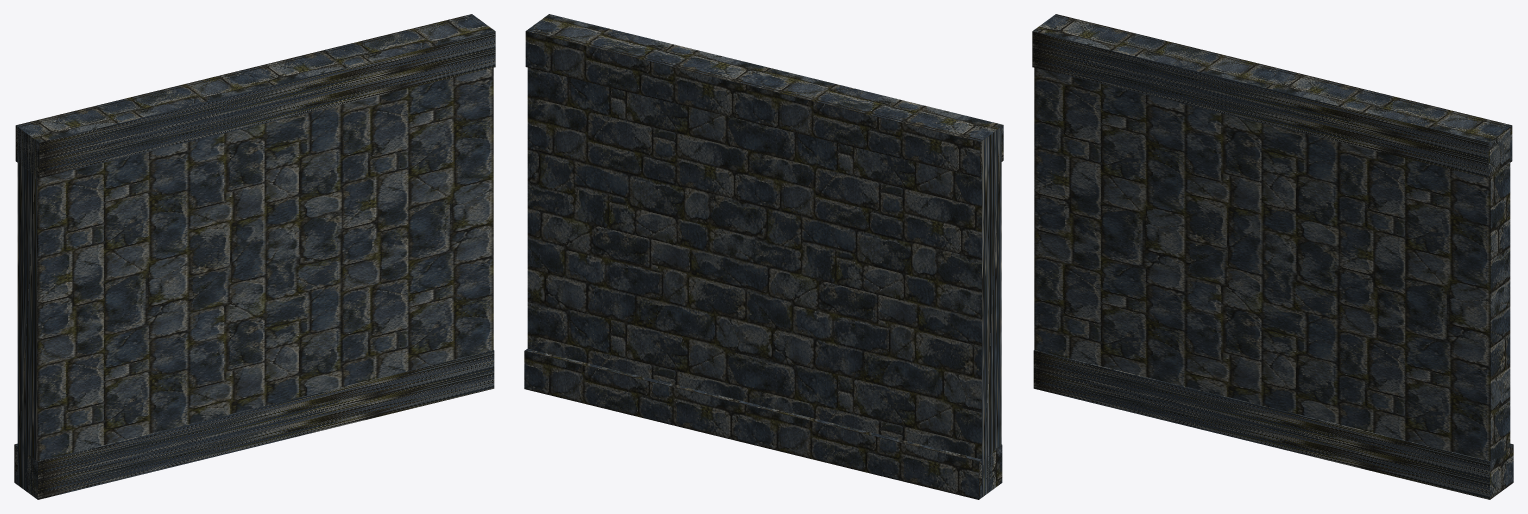
The model's file is M_Parede_4m.obj.
The picture shows the model from 3 angles, left to right: view 1: azimuth 30°, elevation 25°; view 2: azimuth 150°, elevation 25°; view 3: azimuth 330°, elevation 25°; orthographic projection.
Parts seen in each view (by area): view 1: M_Parede_4m; view 2: M_Parede_4m; view 3: M_Parede_4m.
Boxes of the visible parts, box(x1,y1,x2,y2) form: M_Parede_4m: box(14, 14, 495, 499); M_Parede_4m: box(524, 14, 1003, 499); M_Parede_4m: box(1032, 14, 1513, 499).
Size of the model in its own units: 4 by 3 by 0.38.
Materials: 1 (1 with a texture image).
